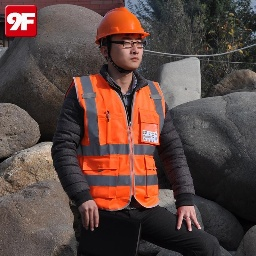helmet: (94, 7, 149, 40)
person: (57, 3, 168, 252)
vest: (68, 74, 163, 205)
